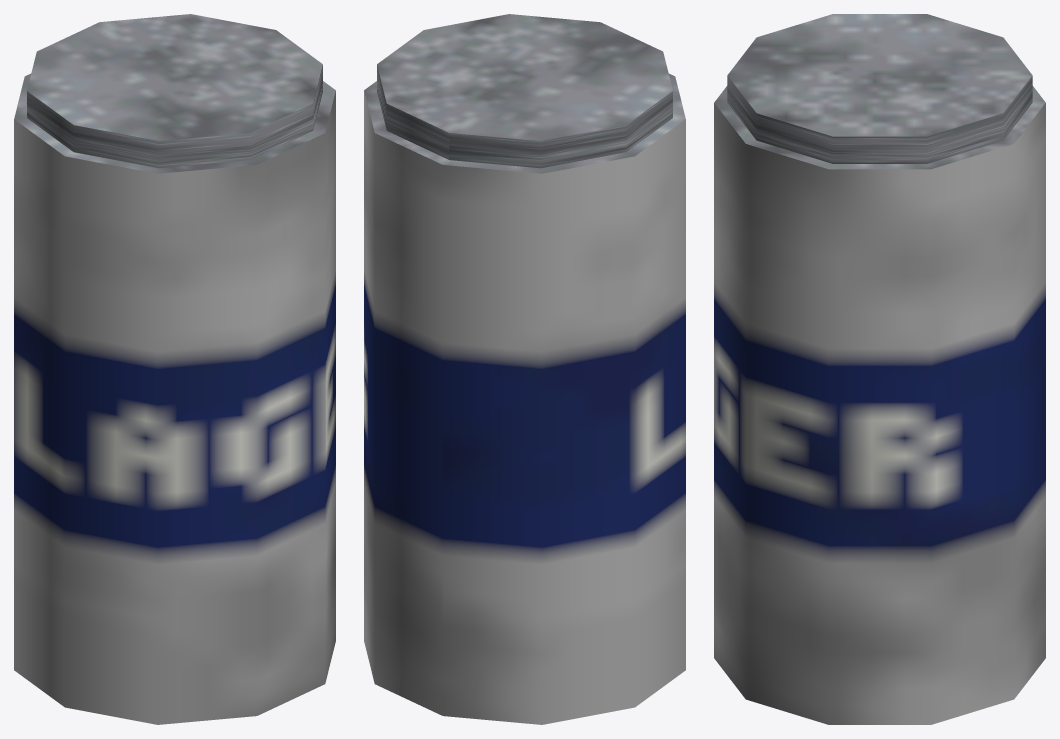
Rendered from beer_can.obj.
3 views of the same model, side by side, from view 1: azimuth 30°, elevation 25°; view 2: azimuth 150°, elevation 25°; view 3: azimuth 270°, elevation 25° (orthographic).
Visible parts, largest first — view 1: beer_can; view 2: beer_can; view 3: beer_can.
Part boxes in pixels (<box>): beer_can: <box>14,14,335,724</box>; beer_can: <box>364,14,685,724</box>; beer_can: <box>714,14,1045,724</box>.
Size of the model in its own units: 0.0628 by 0.128 by 0.066.
Materials: 1 (1 with a texture image).
